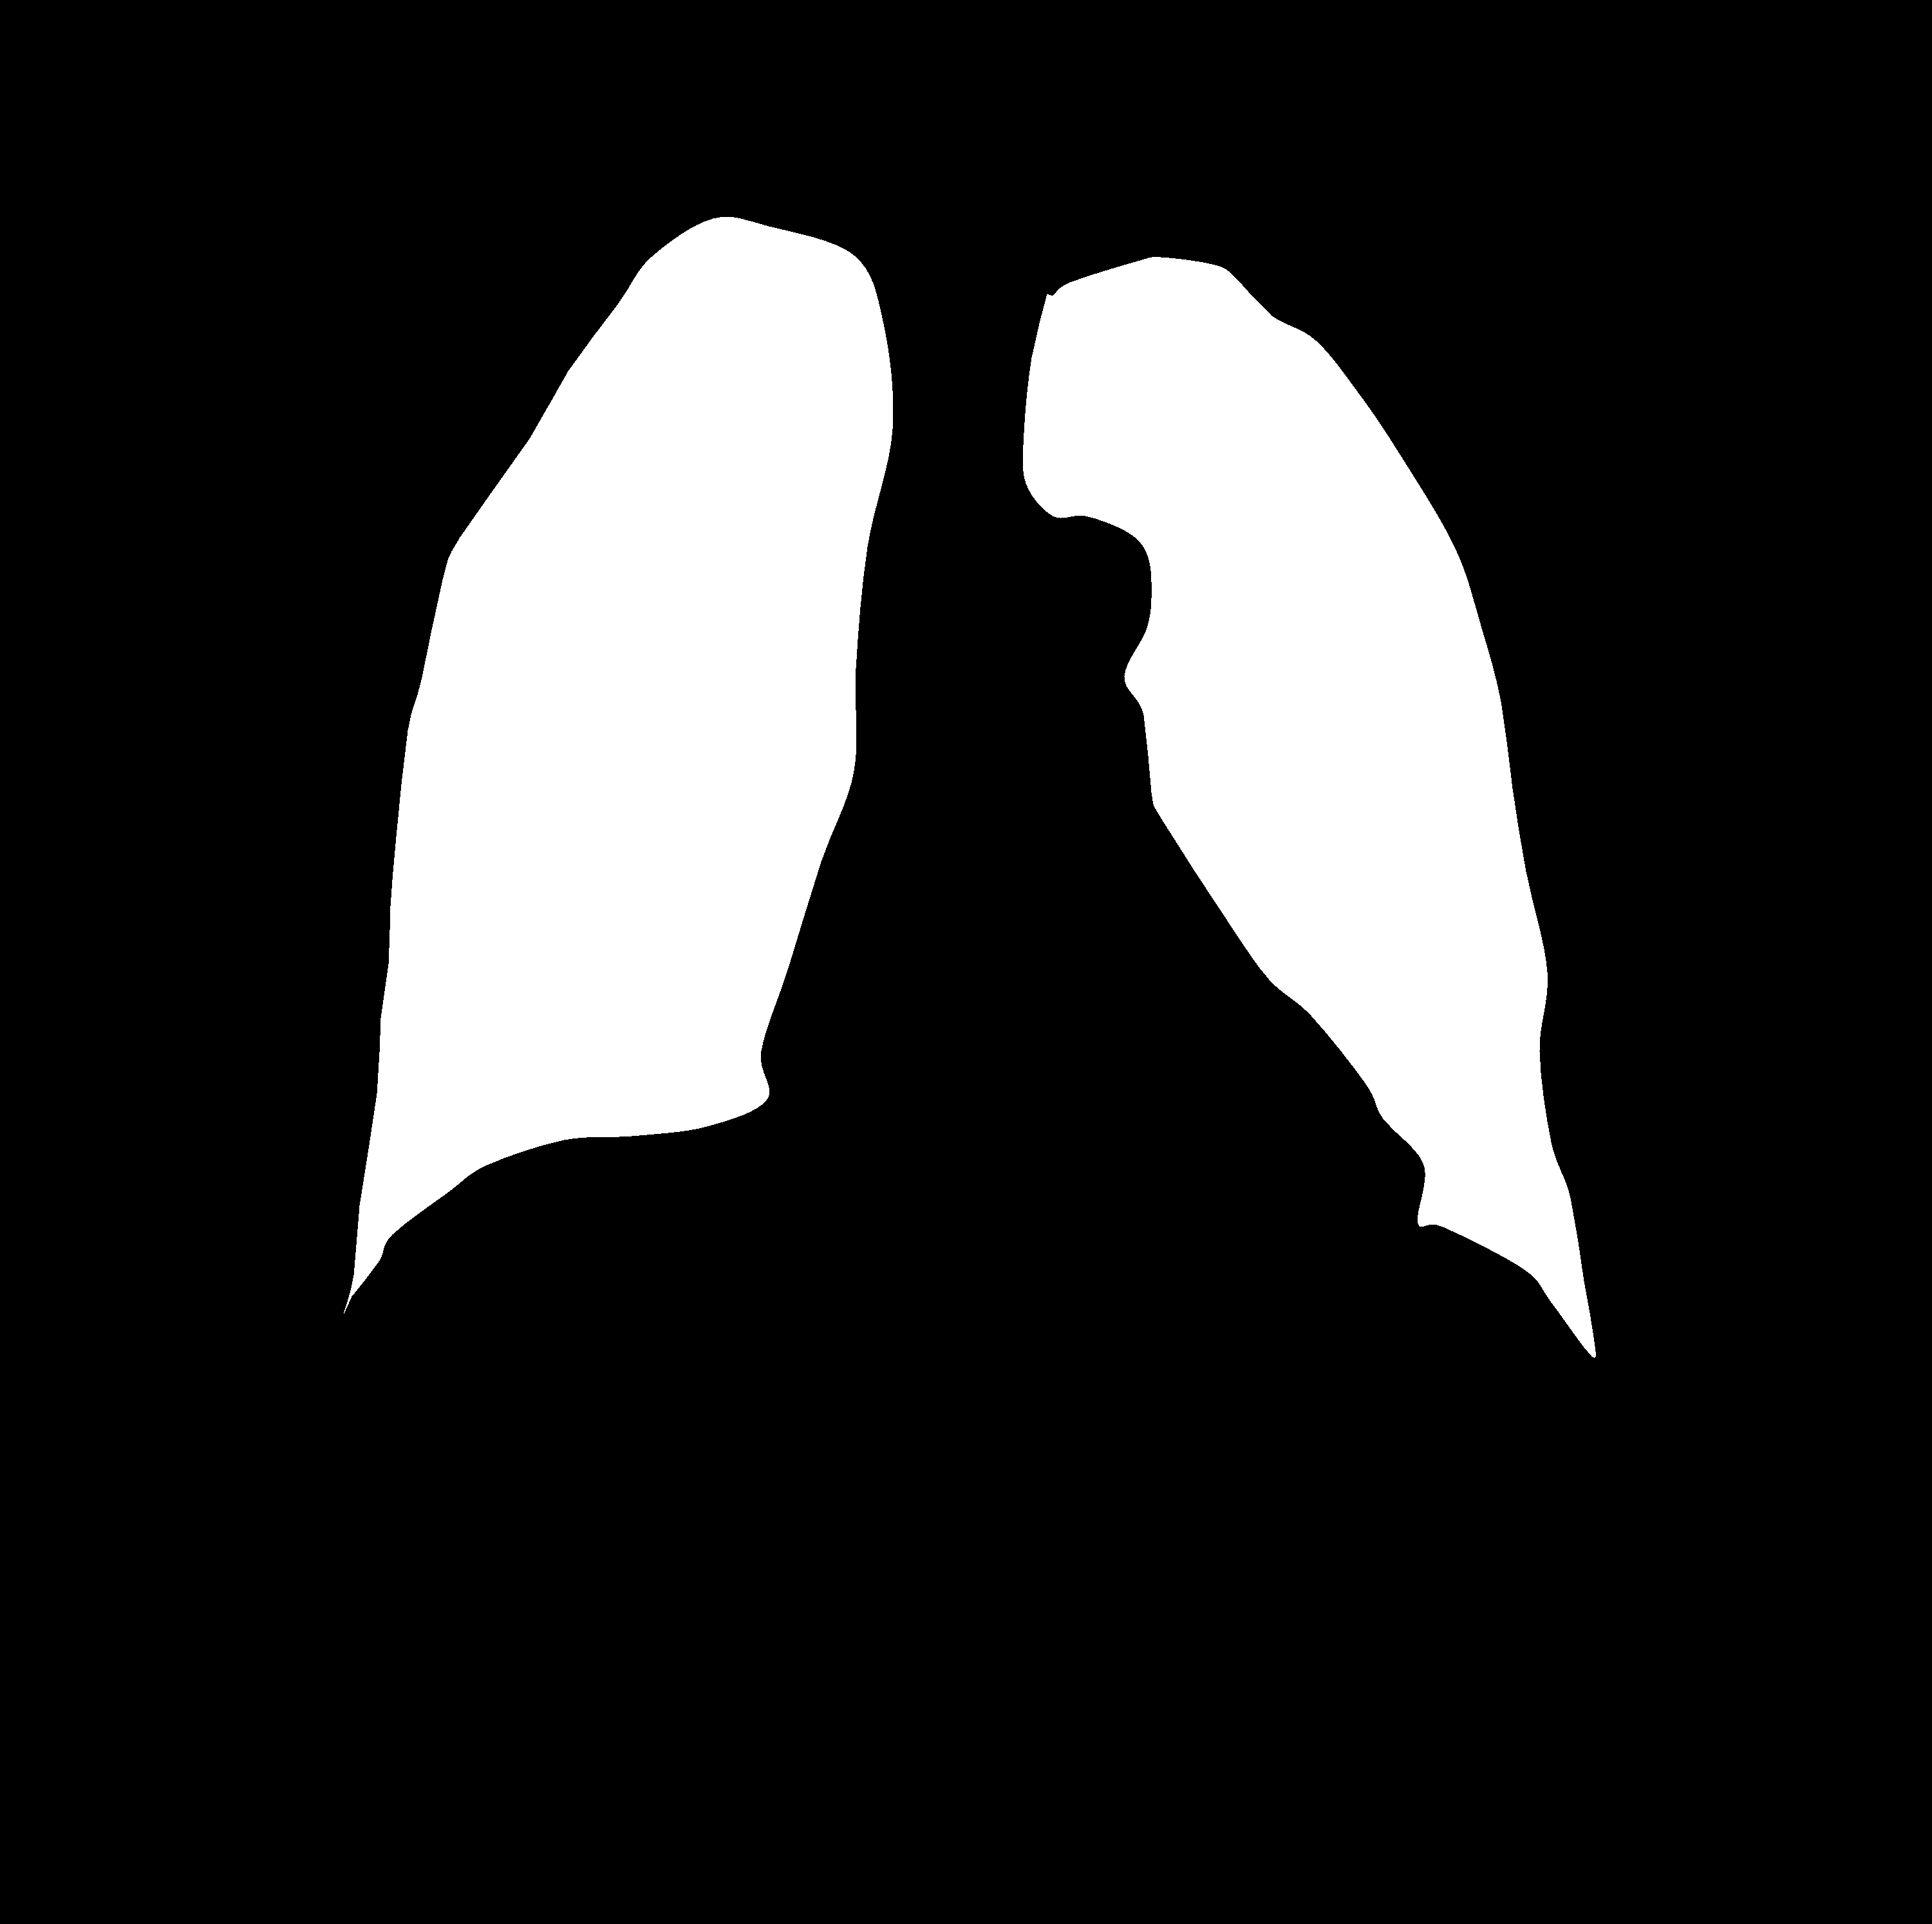heart: (766, 876, 1458, 1346)
left_lung: (343, 217, 893, 1314)
right_lung: (1023, 257, 1596, 1358)
